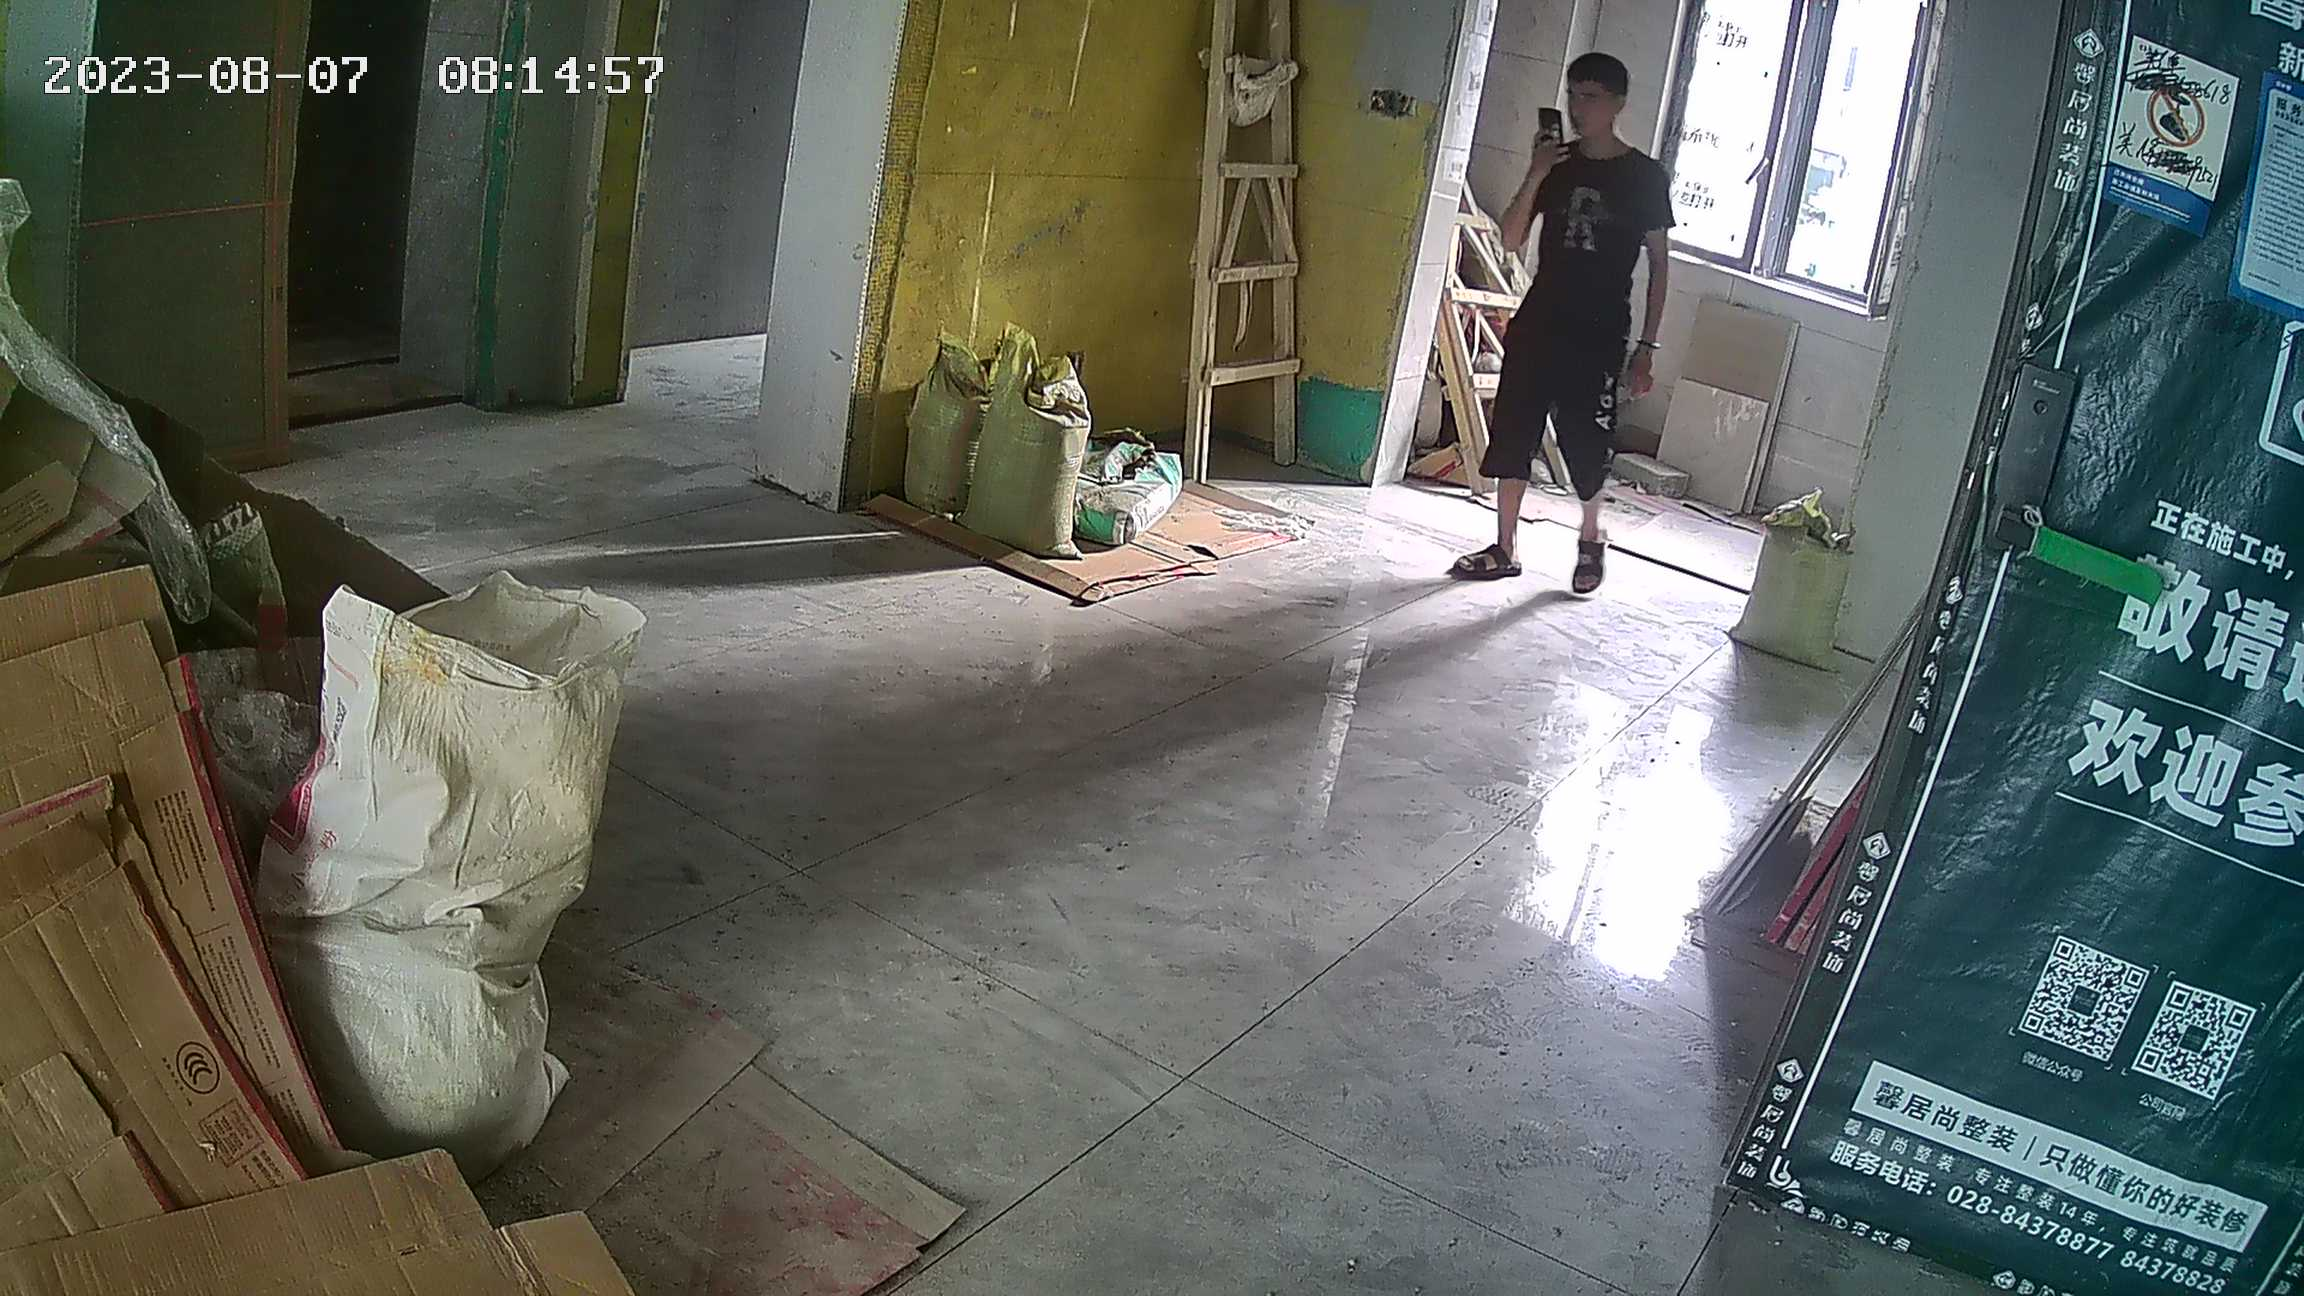people: (1462, 55, 1676, 613)
window: (1664, 1, 1926, 317)
